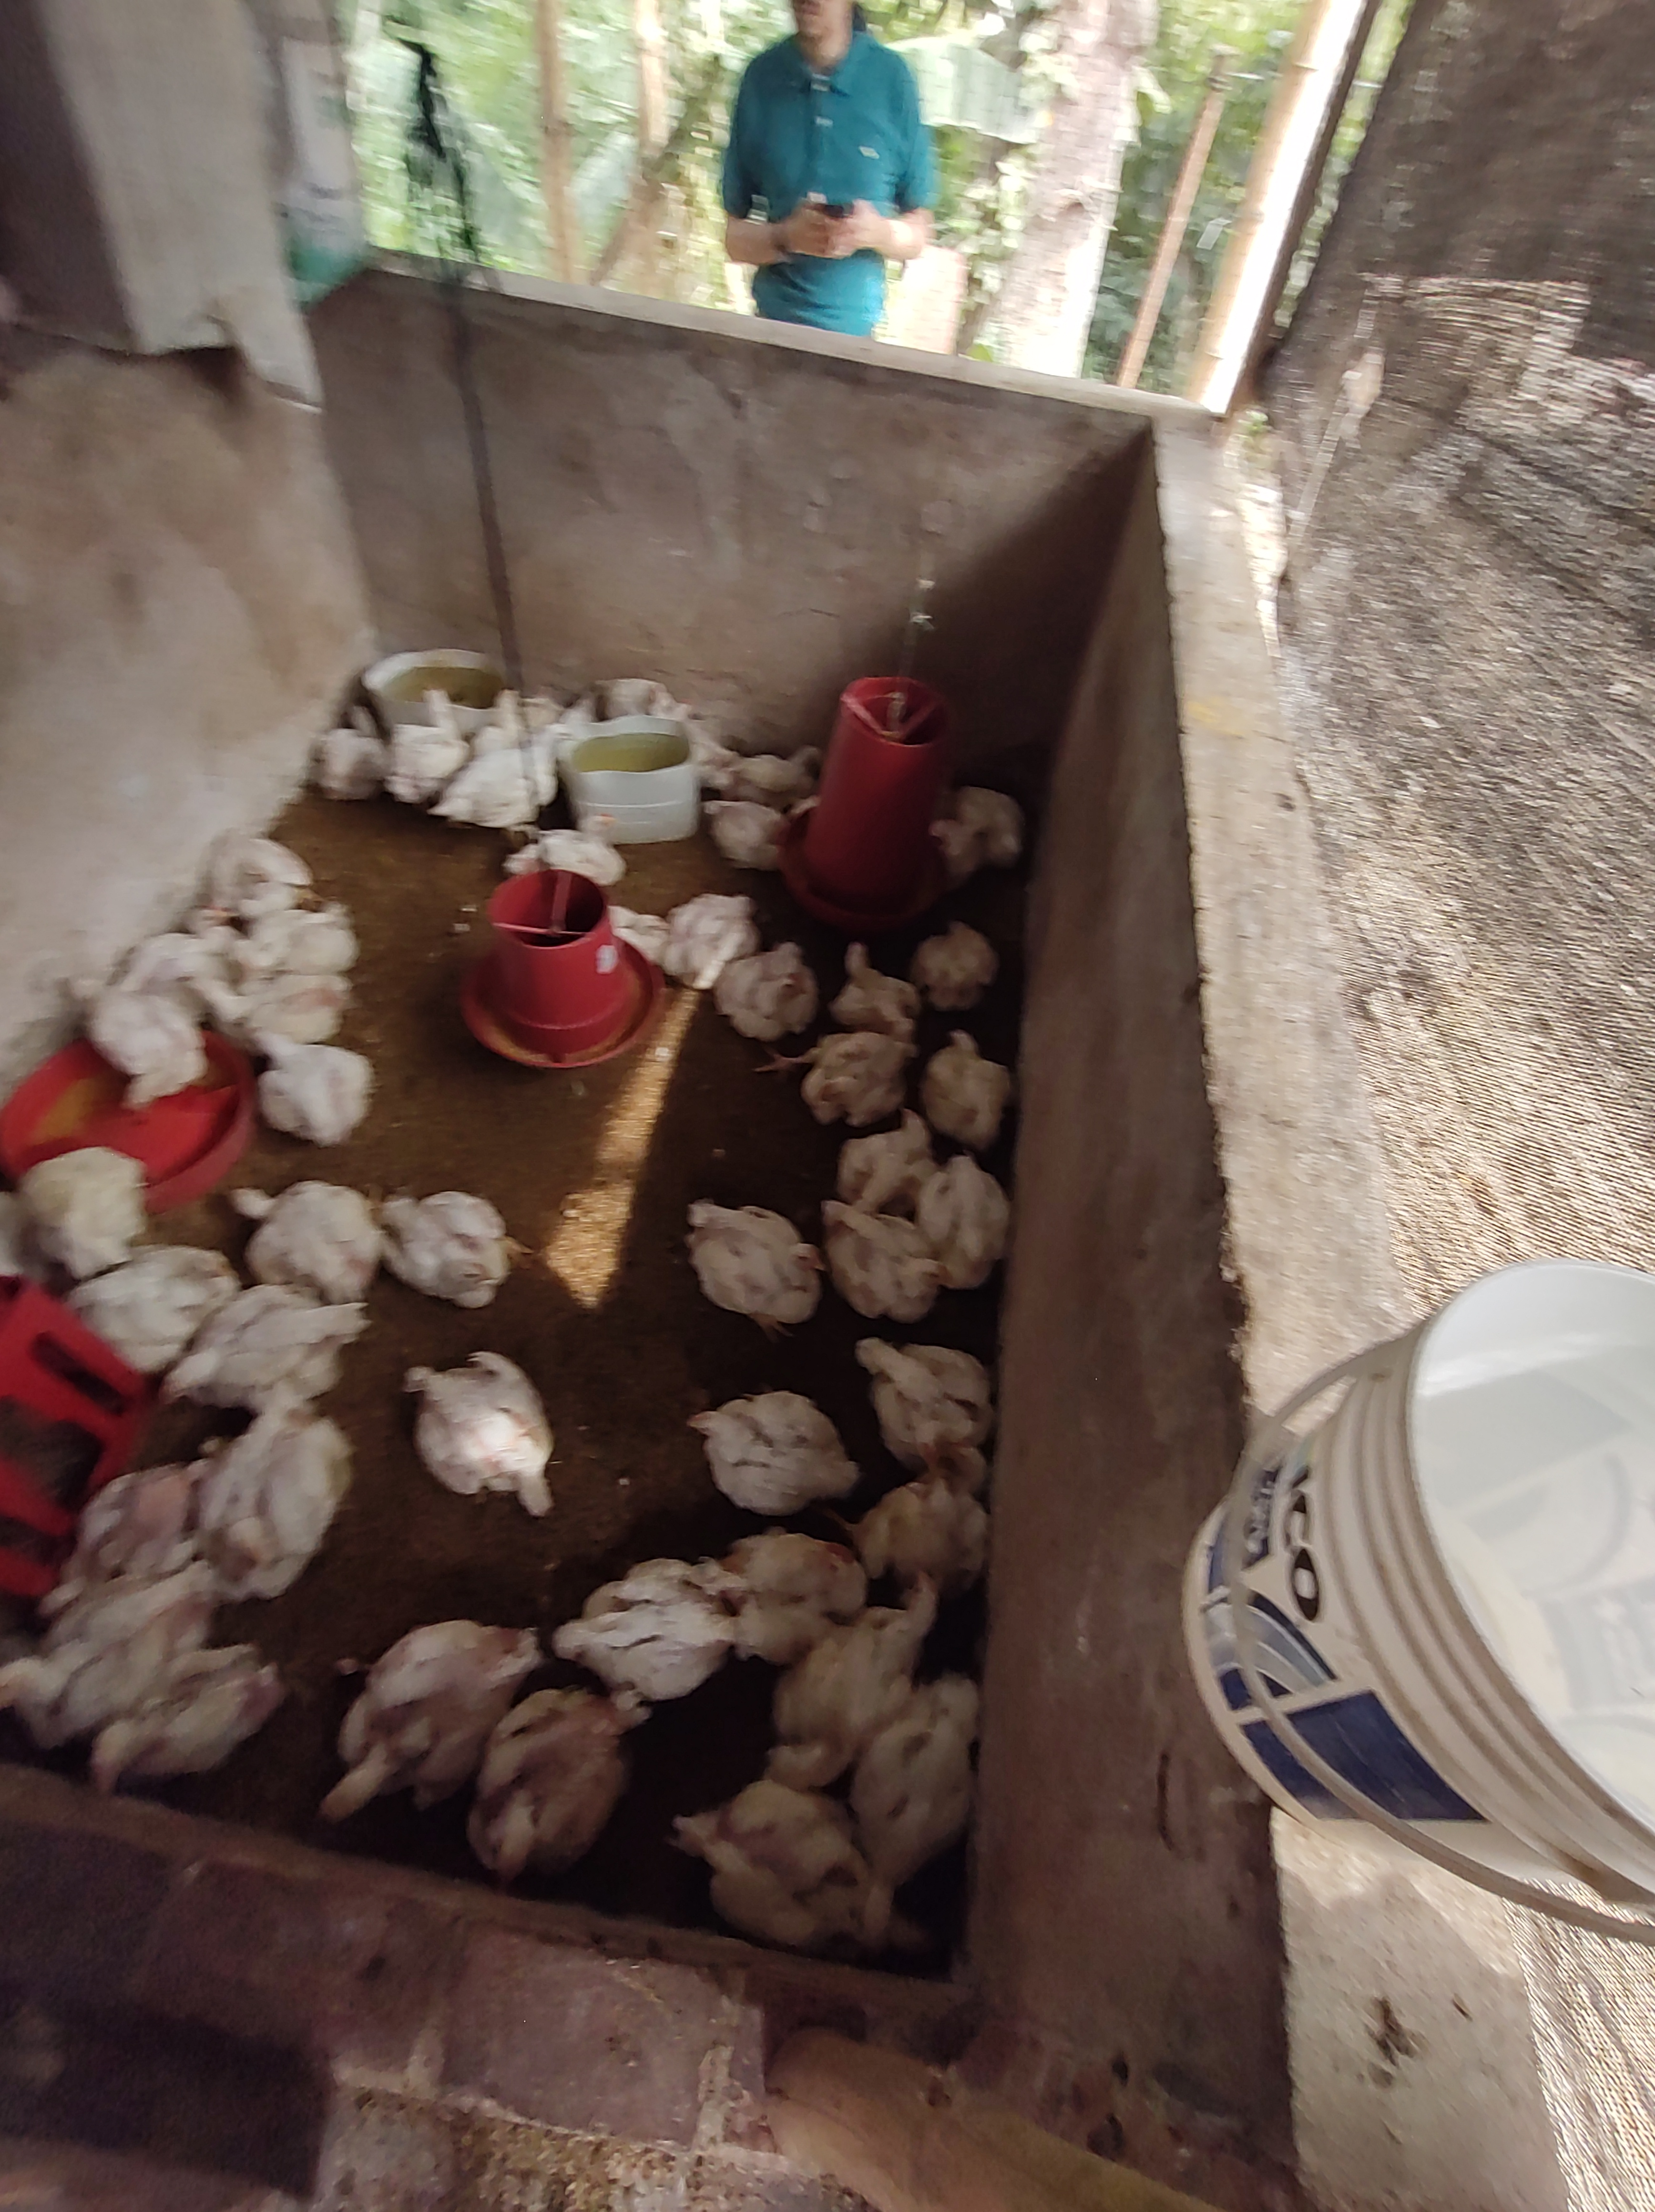Pollos: (315, 1622, 539, 1826), (464, 1685, 661, 1883), (850, 1675, 982, 1941), (96, 1650, 292, 1798), (551, 1558, 746, 1678), (415, 1356, 558, 1513), (216, 1421, 334, 1598), (690, 1391, 859, 1509), (852, 1332, 986, 1454), (391, 1189, 515, 1308), (228, 1176, 370, 1266), (697, 1209, 815, 1309), (177, 960, 349, 1028), (165, 1313, 299, 1400), (252, 1024, 353, 1136), (468, 716, 574, 821), (106, 1243, 235, 1325), (746, 1534, 867, 1610), (101, 995, 177, 1115), (848, 1108, 934, 1212), (664, 889, 760, 979), (928, 1031, 1008, 1136), (937, 1158, 1007, 1275), (727, 939, 812, 1028), (810, 1035, 899, 1116), (850, 1236, 949, 1308), (544, 807, 633, 880), (311, 703, 384, 786), (834, 939, 914, 1012), (897, 1456, 972, 1532), (874, 1572, 944, 1654), (219, 840, 301, 909), (721, 741, 829, 791), (396, 682, 449, 783), (956, 781, 1022, 857), (706, 800, 786, 863), (927, 930, 993, 1003), (177, 892, 249, 956), (593, 673, 692, 716)
